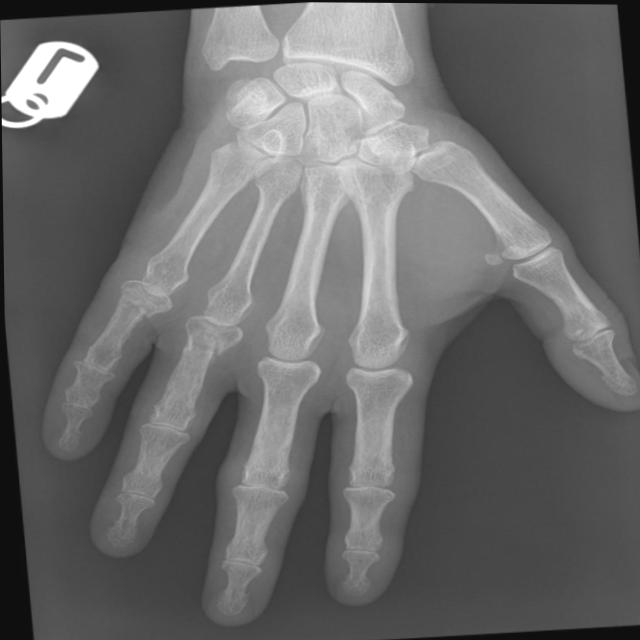Healthy: (31, 40, 631, 627)
